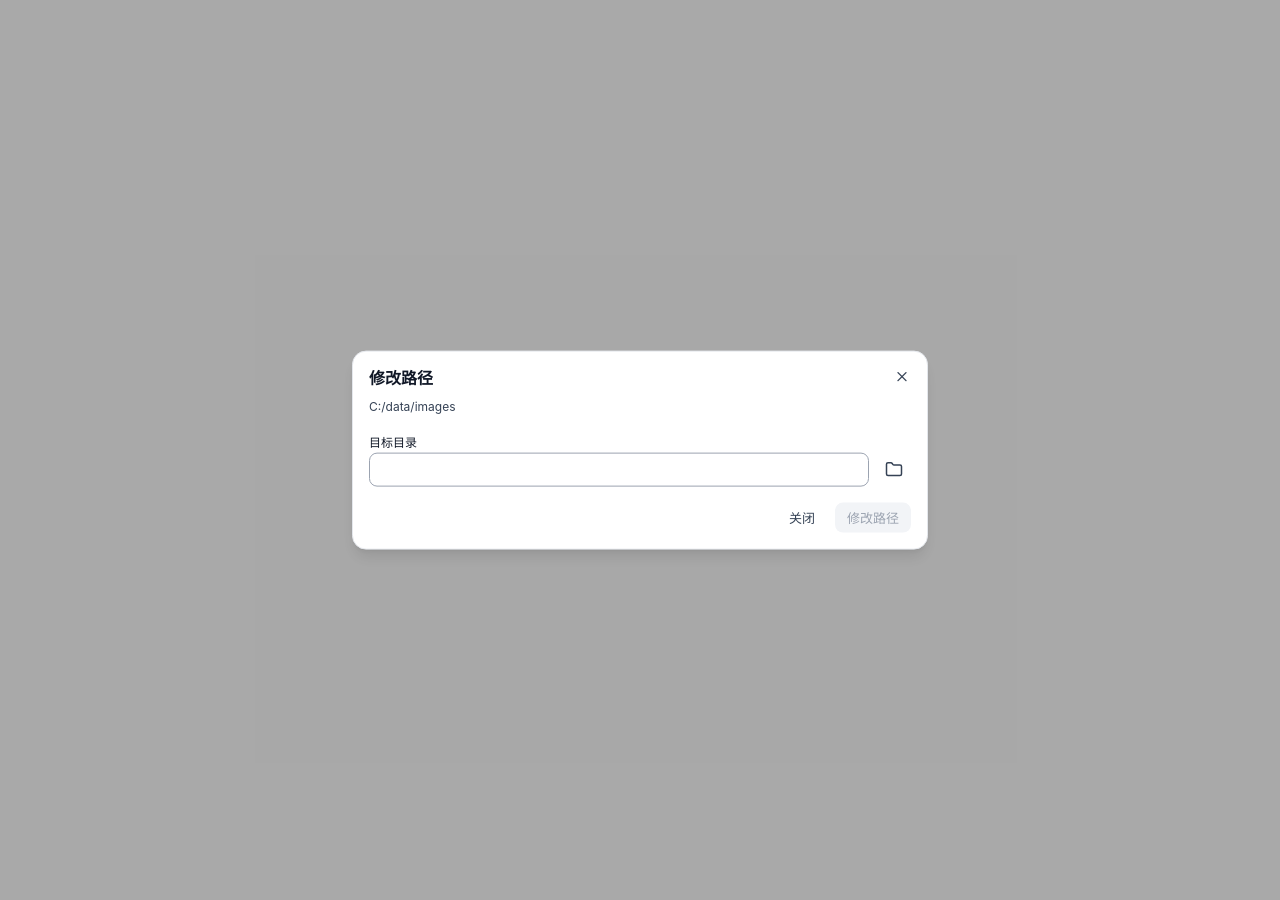
按后端 Windows 语义拼接目标 \\host\share\images
The image size is (1280, 900).
Click the button named "选择目标父目录" at (894, 469), box [877, 452, 911, 486]
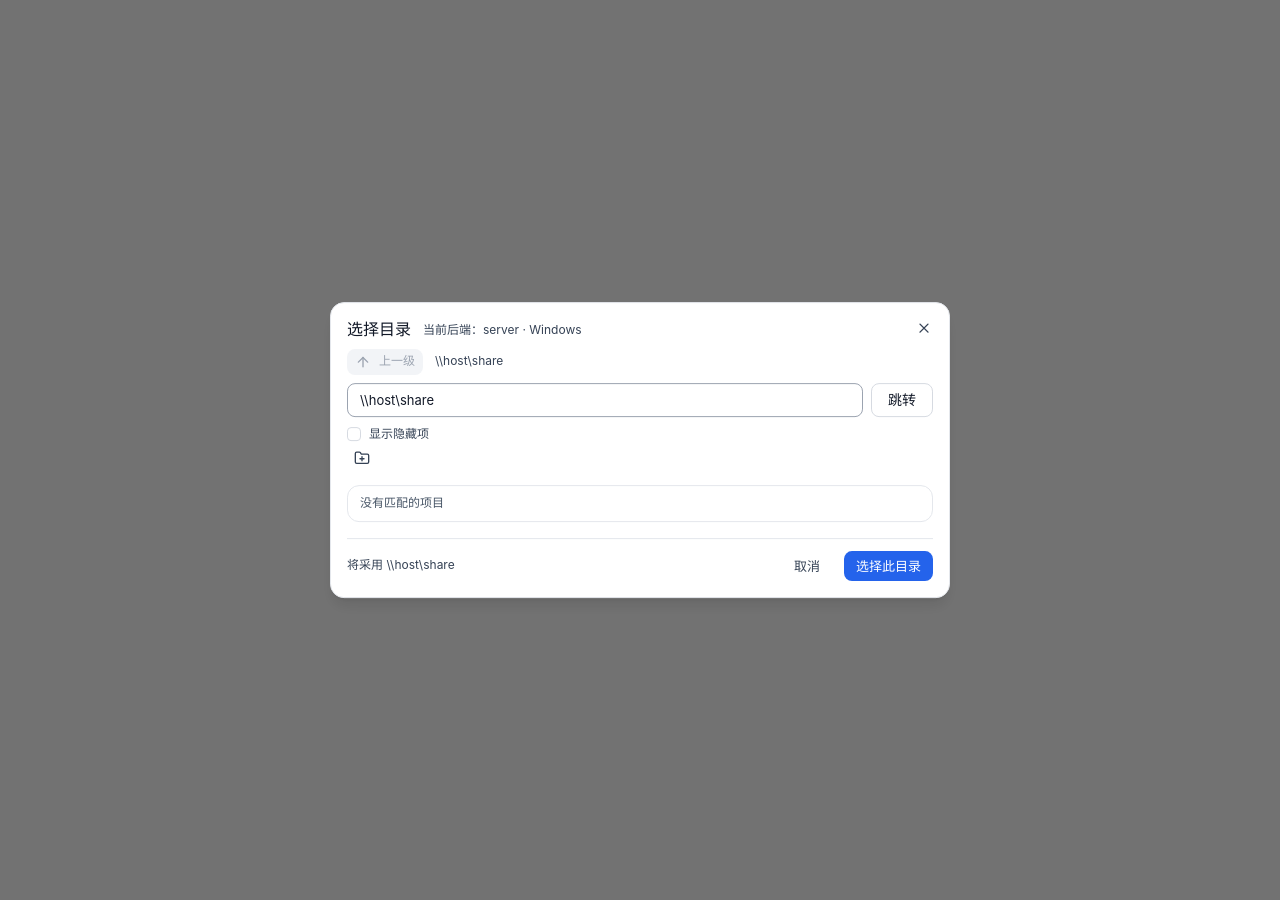
Expected: the text "没有匹配的项目" is shown, [360, 495, 444, 510]
Click the button "选择此目录" at (888, 566), box [844, 551, 933, 581]
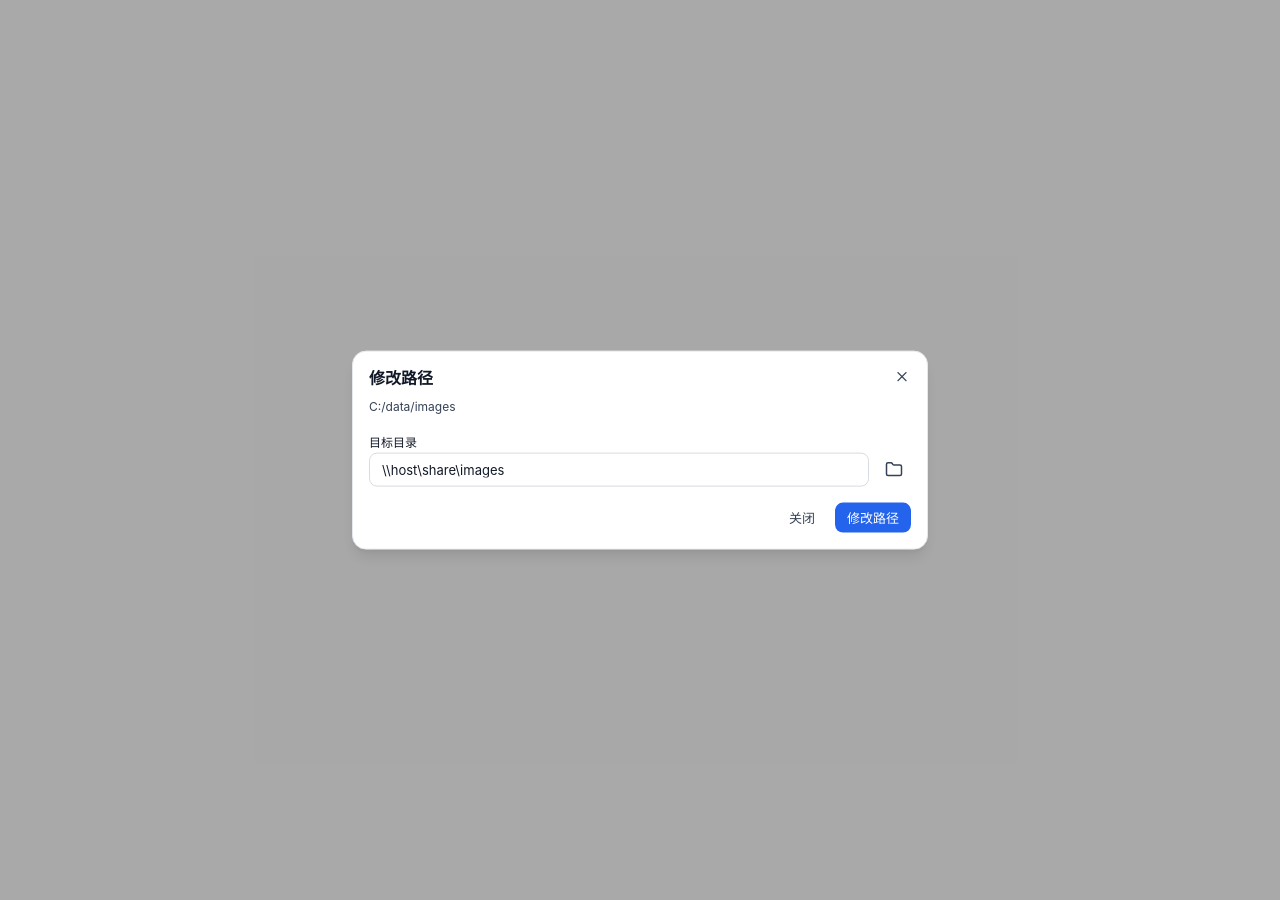
Expected: the field labelled "目标目录" holds "\\\\host\\share\\images", [369, 452, 869, 486]
